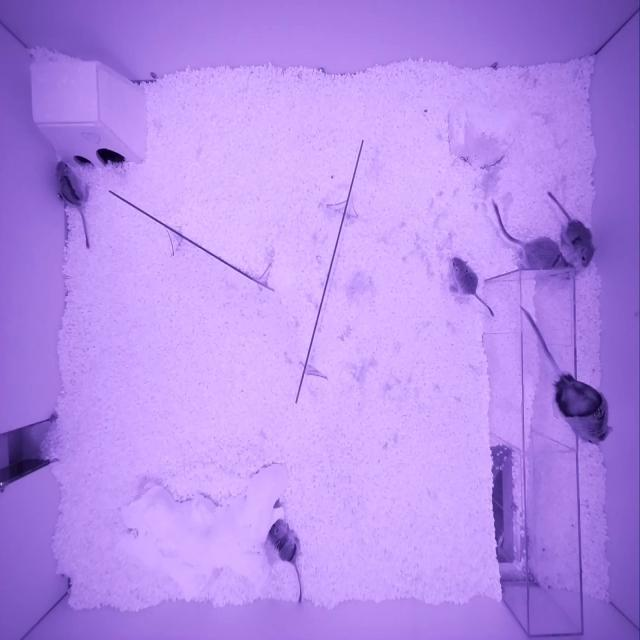adult_back: (550, 371, 613, 446)
adult_front: (524, 236, 577, 280)
pup_fluffy: (449, 257, 478, 295)
pup_h_stripe: (268, 520, 300, 562)
pup_spotted: (565, 219, 597, 267)
pup_v_stripe: (55, 160, 88, 207)
